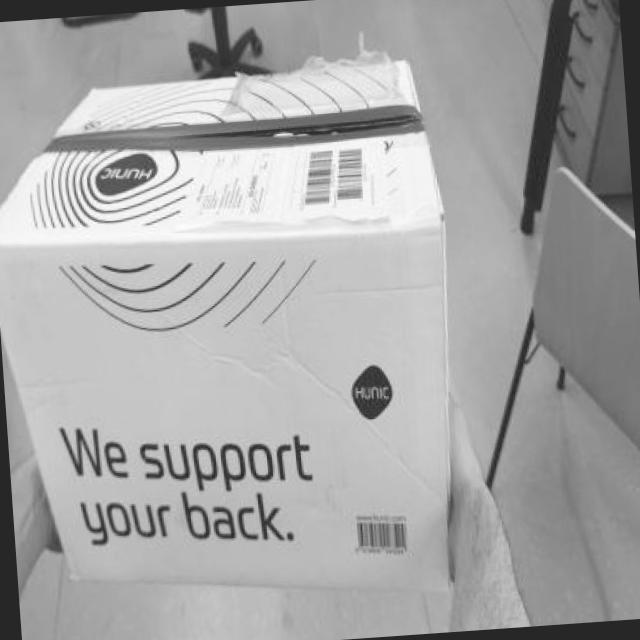box: (0, 14, 537, 640)
